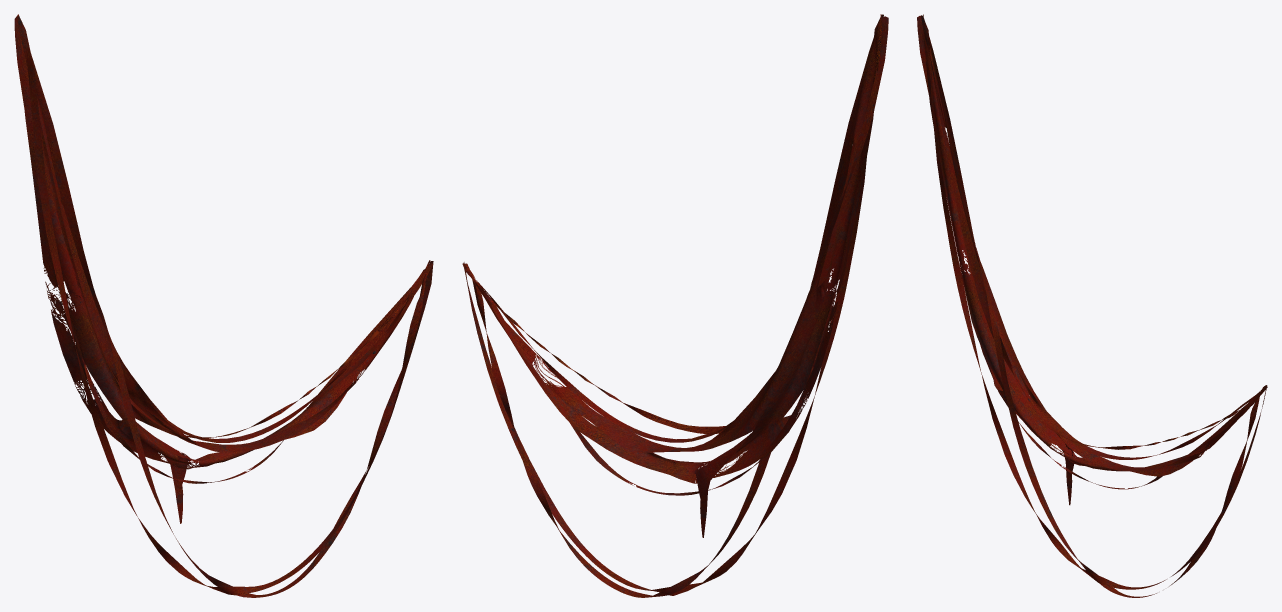
The model's file is P_Cloth05.fbx.
3 views of the same model, side by side, from view 1: azimuth 30°, elevation 25°; view 2: azimuth 150°, elevation 25°; view 3: azimuth 330°, elevation 25° (orthographic). The views are drawn at different scales.
Visible parts, largest first — view 1: P_Cloth05; view 2: P_Cloth05; view 3: P_Cloth05.
Part boxes in pixels (left/top/right/bottom): P_Cloth05: left=14, top=14, right=433, bottom=597; P_Cloth05: left=462, top=14, right=888, bottom=597; P_Cloth05: left=917, top=14, right=1267, bottom=597.
Bounding box in the file's own units: 2748 × 3988 × 219.
